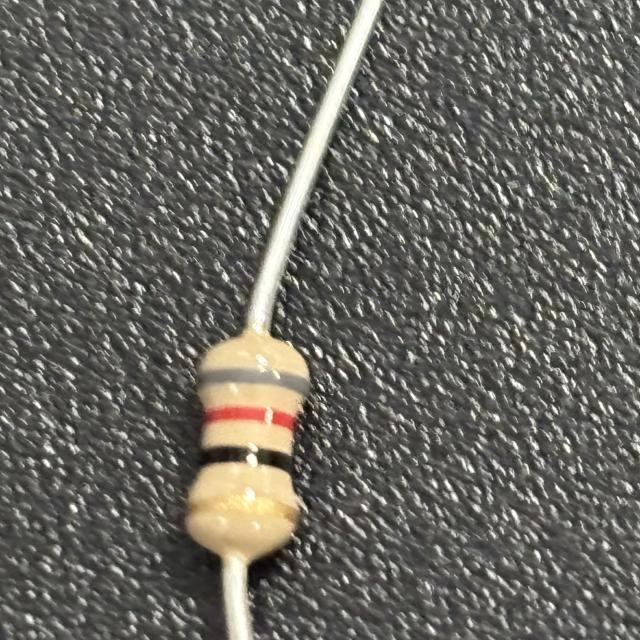resistor: (176, 338, 320, 551)
